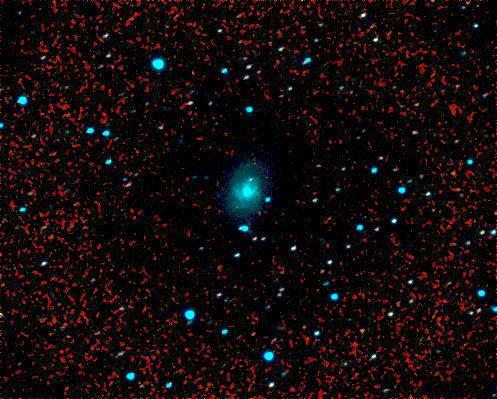star: (235, 165, 265, 195)
